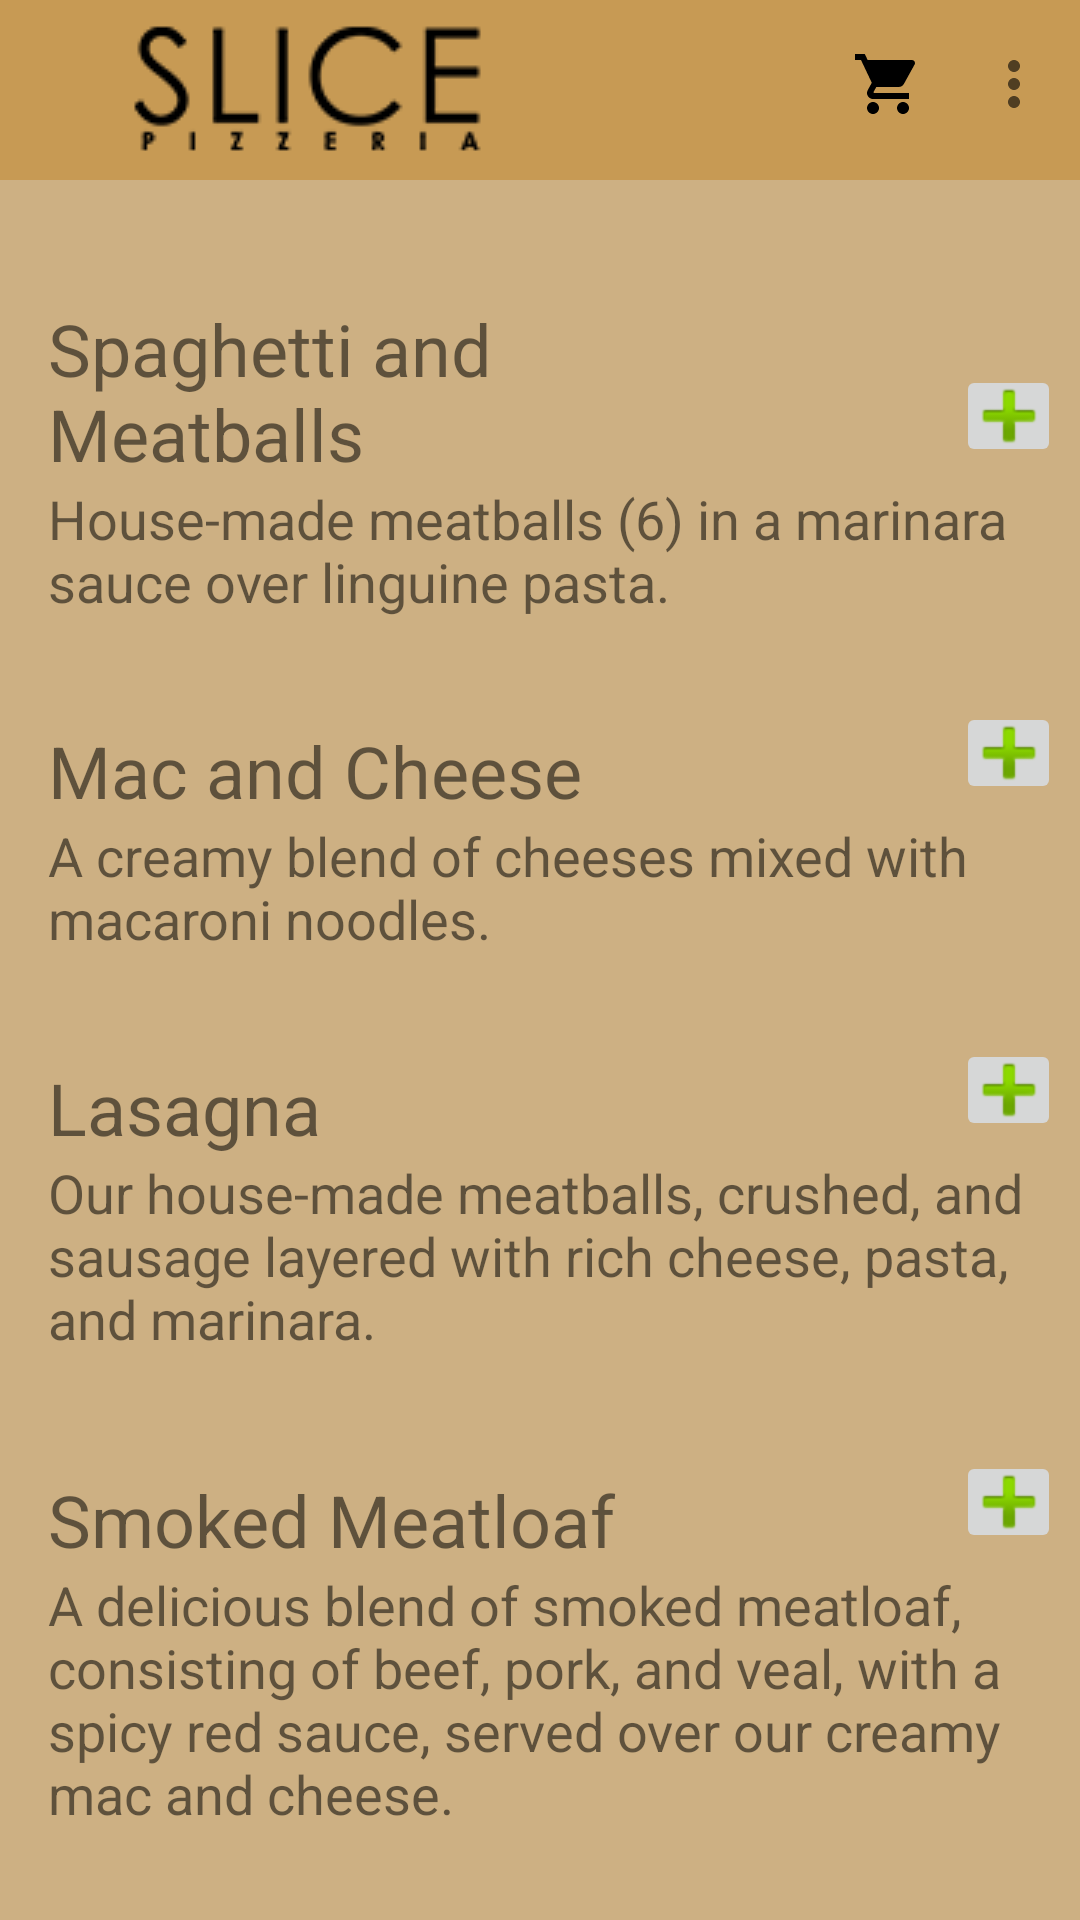

Locate icon controls on the screen. Image size 1080x1920, boxes as (x1, y1, x2, y2).
add: (968, 383, 1049, 449), (968, 720, 1049, 786), (968, 1057, 1049, 1123), (968, 1469, 1049, 1535)
